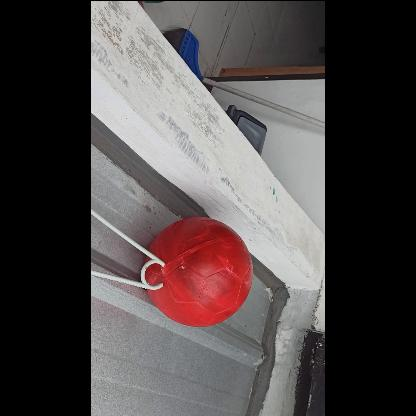red_ball: (142, 216, 254, 328)
